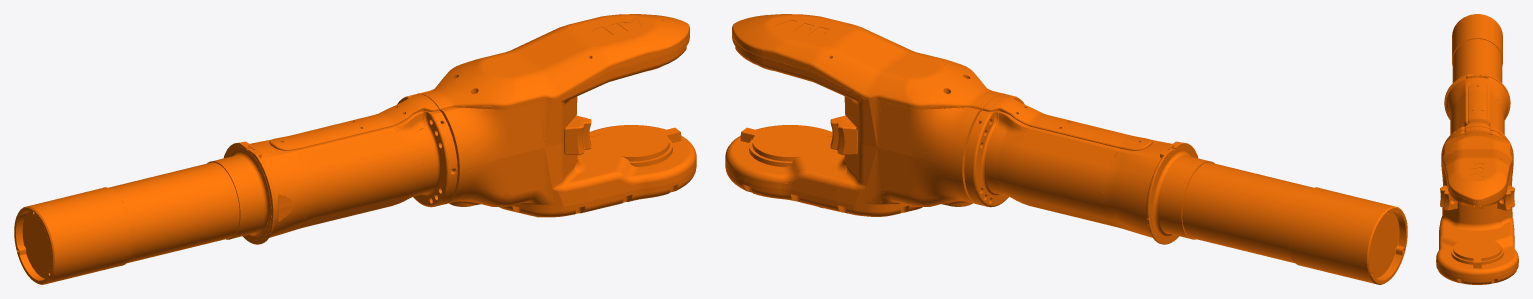
The picture shows the model from 3 angles, left to right: view 1: azimuth 30°, elevation 25°; view 2: azimuth 150°, elevation 25°; view 3: azimuth 270°, elevation 25°; orthographic projection. The views are drawn at different scales.
Visible parts, largest first — view 1: link_4_anam; view 2: link_4_anam; view 3: link_4_anam.
Boxes of the visible parts, left/top/right/bottom form: link_4_anam: left=14, top=14, right=696, bottom=284; link_4_anam: left=725, top=14, right=1407, bottom=284; link_4_anam: left=1436, top=14, right=1518, bottom=284.
Bounding box in the file's own units: 1.55 × 0.35 × 0.2677.
